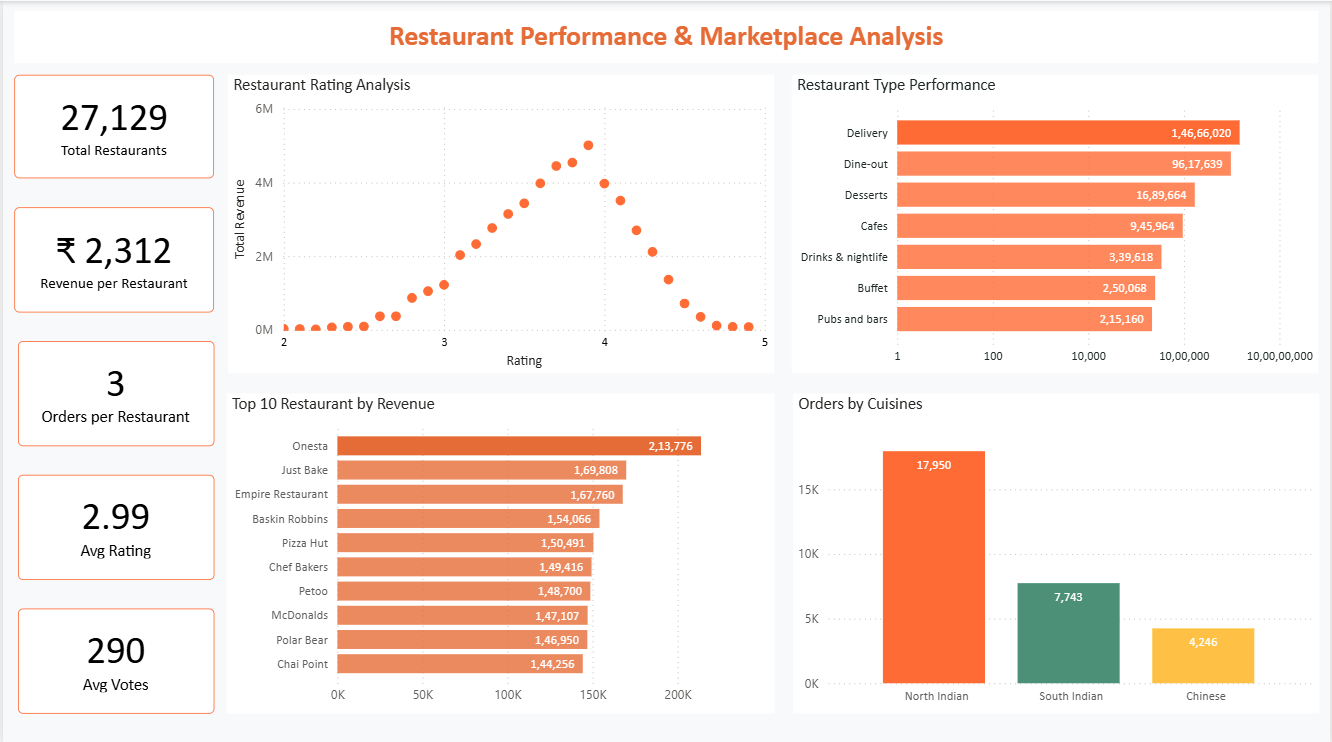

What the dashboard file says about the page in this screenshot:
{"tool":"powerbi","page":{"name":"Restaurant Analytics","canvas":[1280,720],"ordinal":2},"visuals":[{"type":"textbox","box":[10.9,9.7,1258.3,50.7],"z":0},{"type":"cardVisual","fields":{"Data":["Measure.Total Restaurants"]},"box":[10.9,71.2,193,100.1],"z":1000},{"type":"cardVisual","fields":{"Data":["Measure.Revenue per Restaurant"]},"box":[10.9,199.1,193,101.3],"z":2000},{"type":"barChart","title":"Restaurant Type Performance","fields":{"Category":["restaurants.service_type"],"Y":["Measure.Total Revenue"]},"box":[761.3,71.2,507.9,288.3],"z":3000},{"type":"scatterChart","title":"Restaurant Rating Analysis","fields":{"X":["restaurants.rating"],"Y":["Measure.Total Revenue"]},"box":[217.2,71.2,527.2,288.3],"z":4000},{"type":"cardVisual","fields":{"Data":["Measure.Orders per Restaurant"]},"box":[14.5,328.2,189.4,101.3],"z":5000},{"type":"cardVisual","fields":{"Data":["Measure.Avg Rating"]},"box":[14.5,457.2,189.4,101.3],"z":6000},{"type":"cardVisual","fields":{"Data":["Measure.Avg Votes"]},"box":[14.5,586.3,189.4,101.3],"z":7000},{"type":"barChart","title":"Top 10 Restaurant by Revenue","fields":{"Category":["restaurants.restaurant_name"],"Y":["Measure.Total Revenue"]},"box":[216,378.8,528.4,308.8],"z":8000},{"type":"columnChart","title":"Orders by Cuisines","fields":{"Category":["restaurants.cuisines"],"Y":["Measure.Completed Orders"]},"box":[762.5,378.8,507.9,308.8],"z":9000}]}

Visuals, with their boxes in screenshot pixels (x1, y1, x2, y2), scaled from the page's 1280x720 canvas onto the 1332x742 screenshot:
textbox: x1=11, y1=10, x2=1321, y2=62
cardVisual - Measure.Total Restaurants: x1=11, y1=73, x2=212, y2=177
cardVisual - Measure.Revenue per Restaurant: x1=11, y1=205, x2=212, y2=310
"Restaurant Type Performance" barChart: x1=792, y1=73, x2=1321, y2=370
"Restaurant Rating Analysis" scatterChart: x1=226, y1=73, x2=775, y2=370
cardVisual - Measure.Orders per Restaurant: x1=15, y1=338, x2=212, y2=443
cardVisual - Measure.Avg Rating: x1=15, y1=471, x2=212, y2=576
cardVisual - Measure.Avg Votes: x1=15, y1=604, x2=212, y2=709
"Top 10 Restaurant by Revenue" barChart: x1=225, y1=390, x2=775, y2=709
"Orders by Cuisines" columnChart: x1=793, y1=390, x2=1322, y2=709
